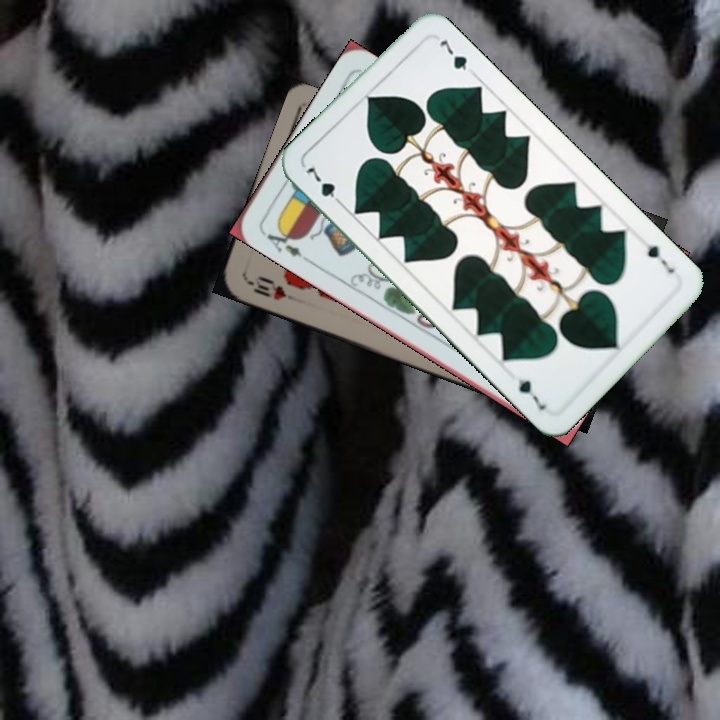EA: (258, 222, 311, 264)
G7: (301, 163, 346, 210), (643, 240, 678, 276)
H10: (242, 271, 289, 303)
